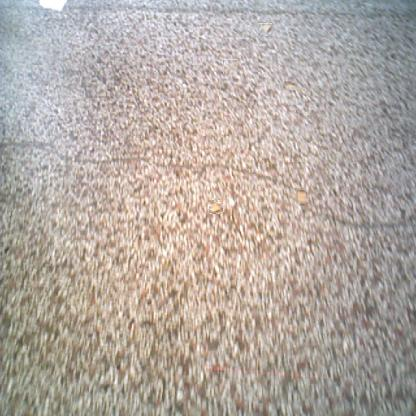dirty: (38, 1, 68, 14), (223, 59, 237, 74), (210, 200, 222, 214), (296, 190, 308, 204), (259, 23, 272, 35), (282, 80, 296, 90)
